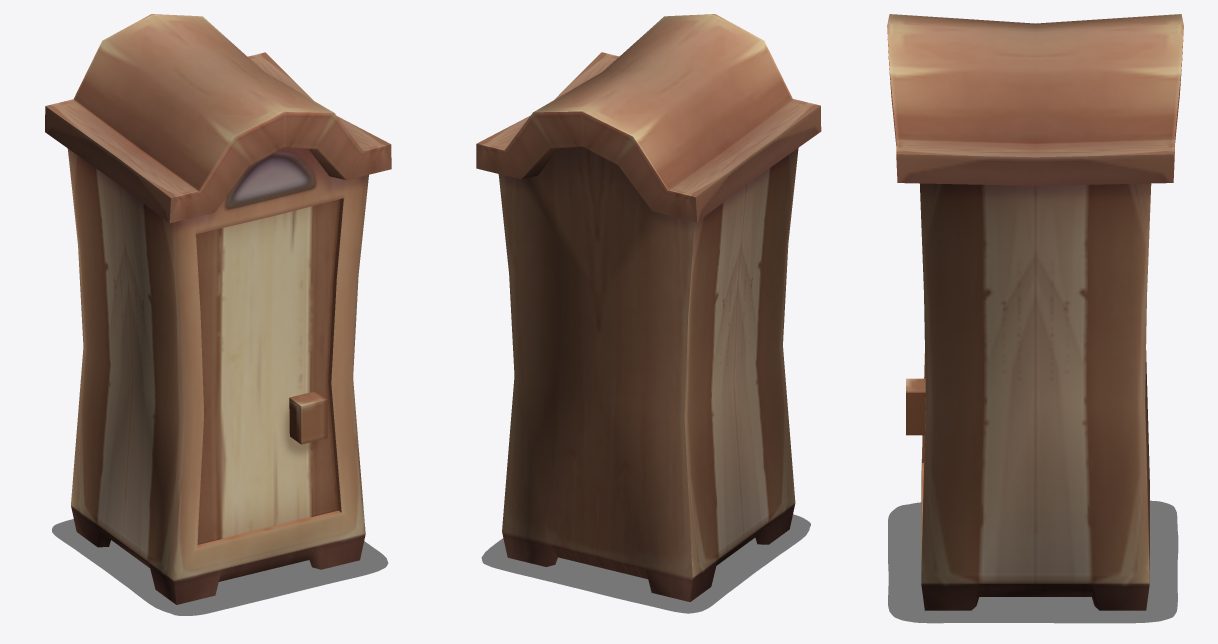
Rendered from FT_Basic_cabinet01.FBX.
3 views of the same model, side by side, from view 1: azimuth 30°, elevation 25°; view 2: azimuth 150°, elevation 25°; view 3: azimuth 270°, elevation 25° (orthographic). The views are drawn at different scales.
Visible parts, largest first — view 1: FT_Basic_cabinet01, FT_Basic_cabinet01_shadow; view 2: FT_Basic_cabinet01, FT_Basic_cabinet01_shadow; view 3: FT_Basic_cabinet01, FT_Basic_cabinet01_shadow.
Boxes of the visible parts, bbox=[...] form: FT_Basic_cabinet01: bbox=[45, 14, 391, 604]; FT_Basic_cabinet01_shadow: bbox=[52, 519, 388, 615]; FT_Basic_cabinet01: bbox=[476, 14, 821, 601]; FT_Basic_cabinet01_shadow: bbox=[481, 514, 810, 613]; FT_Basic_cabinet01: bbox=[887, 14, 1183, 610]; FT_Basic_cabinet01_shadow: bbox=[888, 500, 1178, 623].
Bounding box in the file's own units: 0.9956 × 1.83 × 0.9964.
